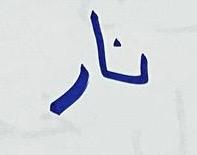alef: (89, 5, 107, 83)
noon: (109, 29, 154, 93)
reh: (47, 56, 87, 120)
